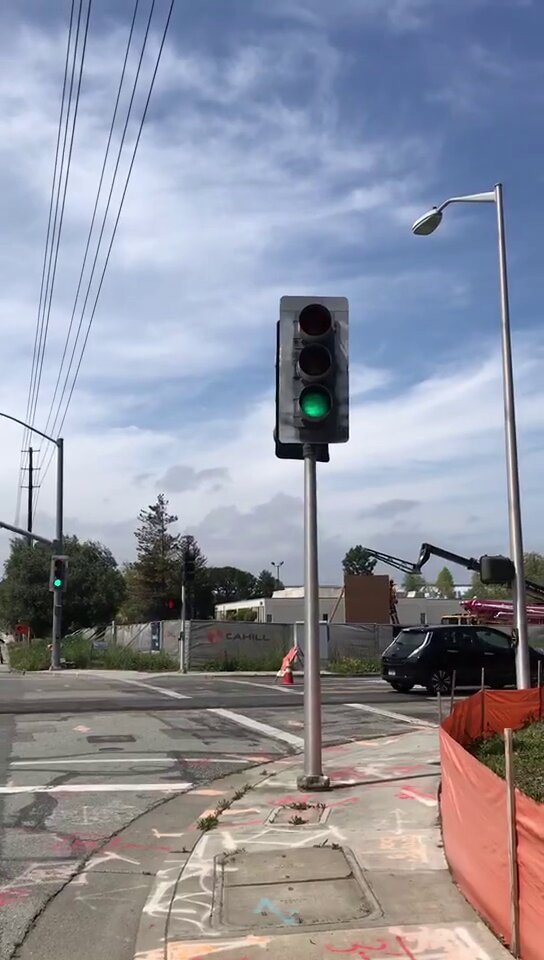green_light: (285, 298, 338, 436), (50, 558, 67, 590)
